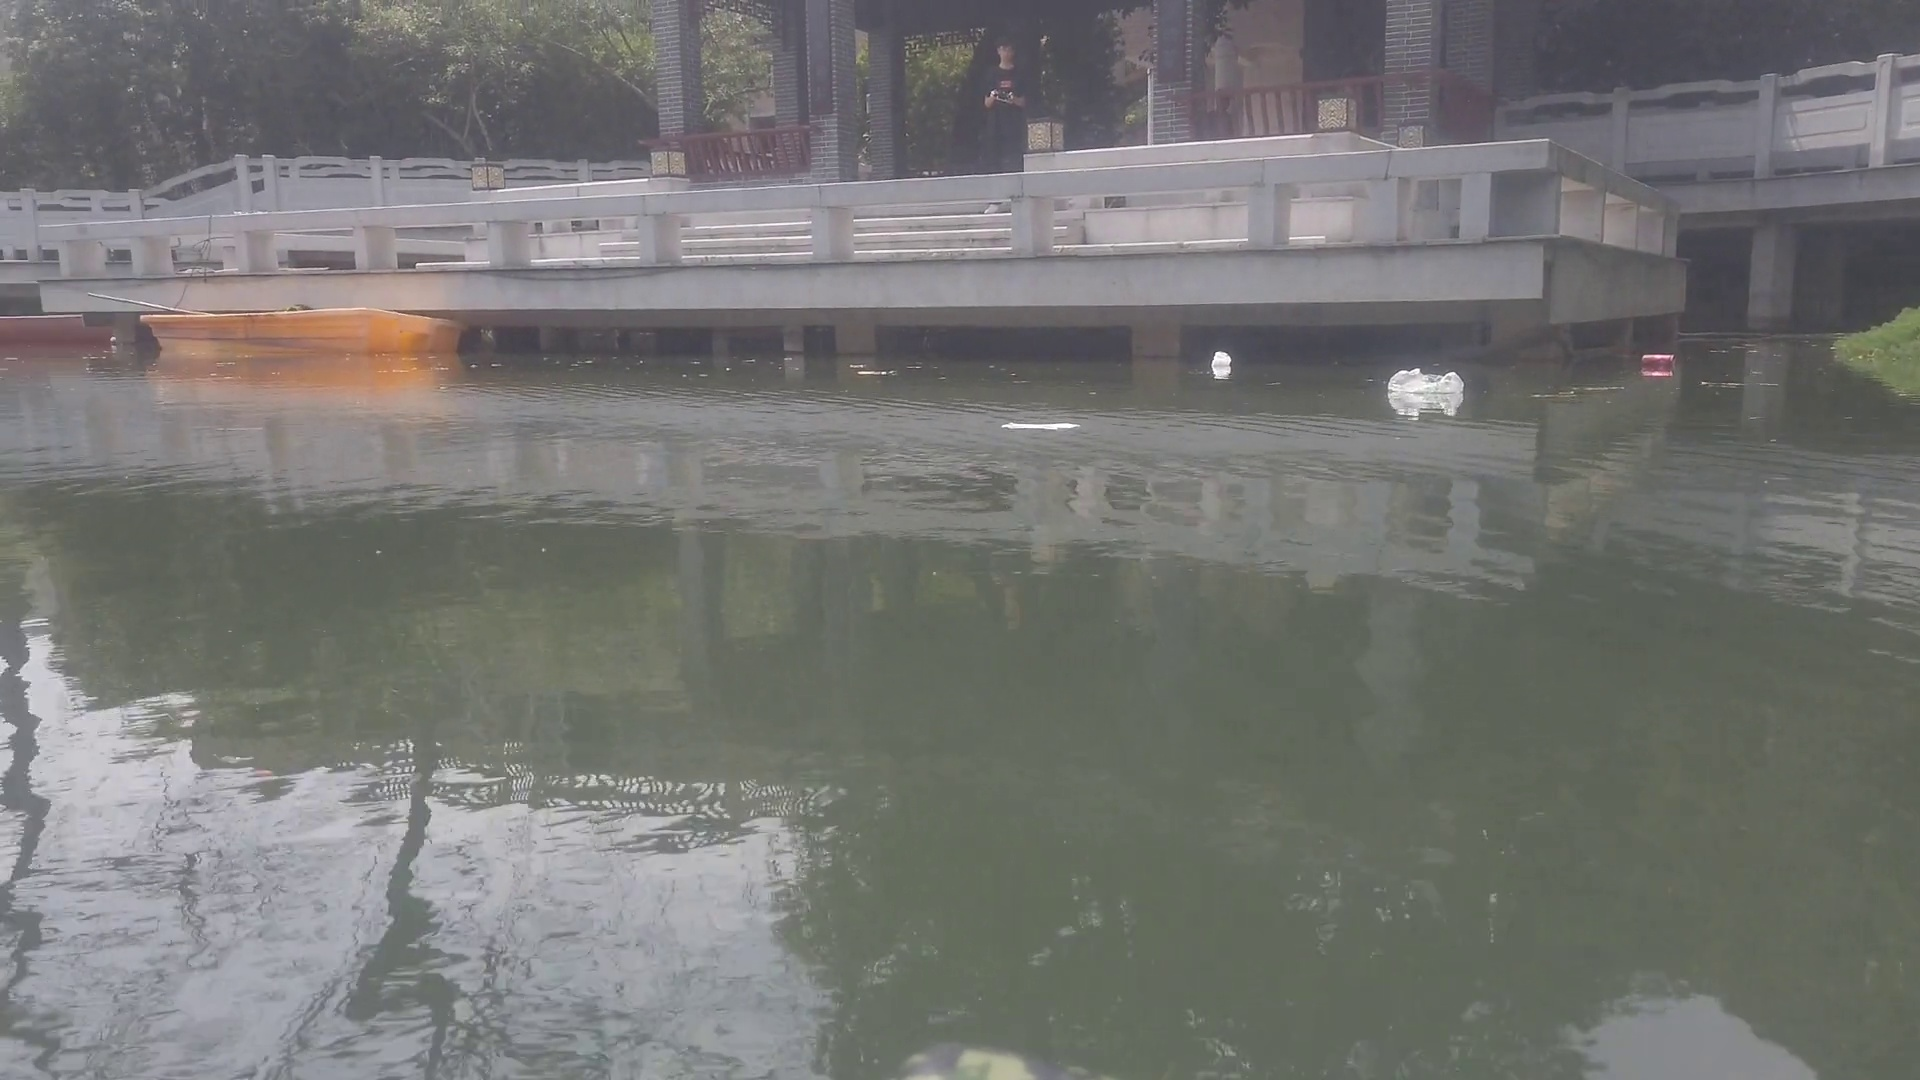bottle: (1640, 348, 1681, 369)
paper: (1000, 419, 1083, 430)
plastic: (1382, 365, 1472, 394), (1211, 349, 1232, 371)
